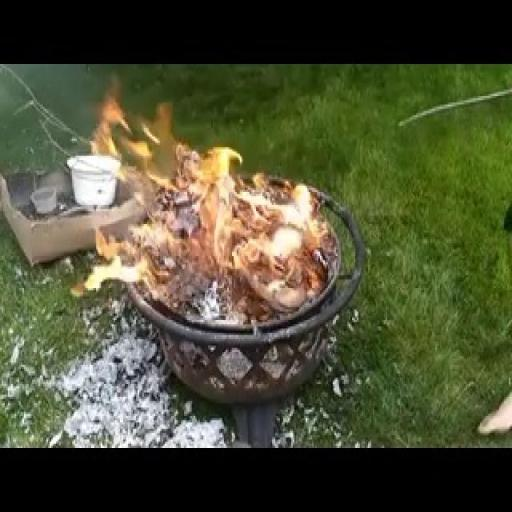smoke: (46, 104, 330, 334)
